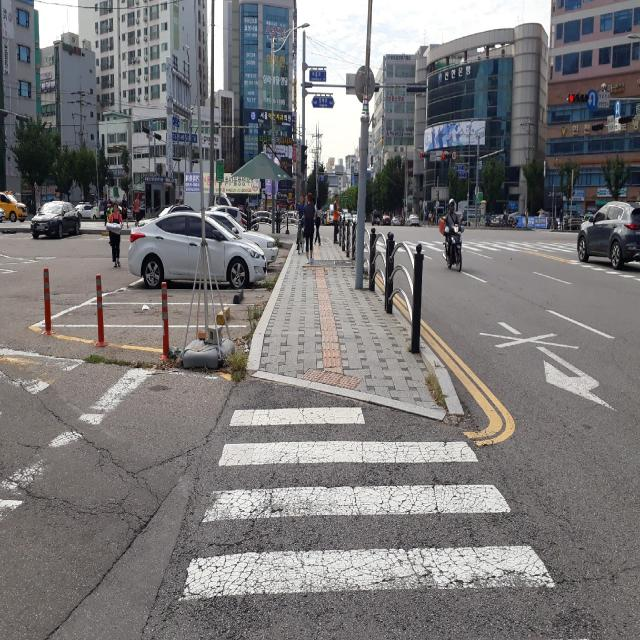횡단보도: (174, 402, 556, 608)
